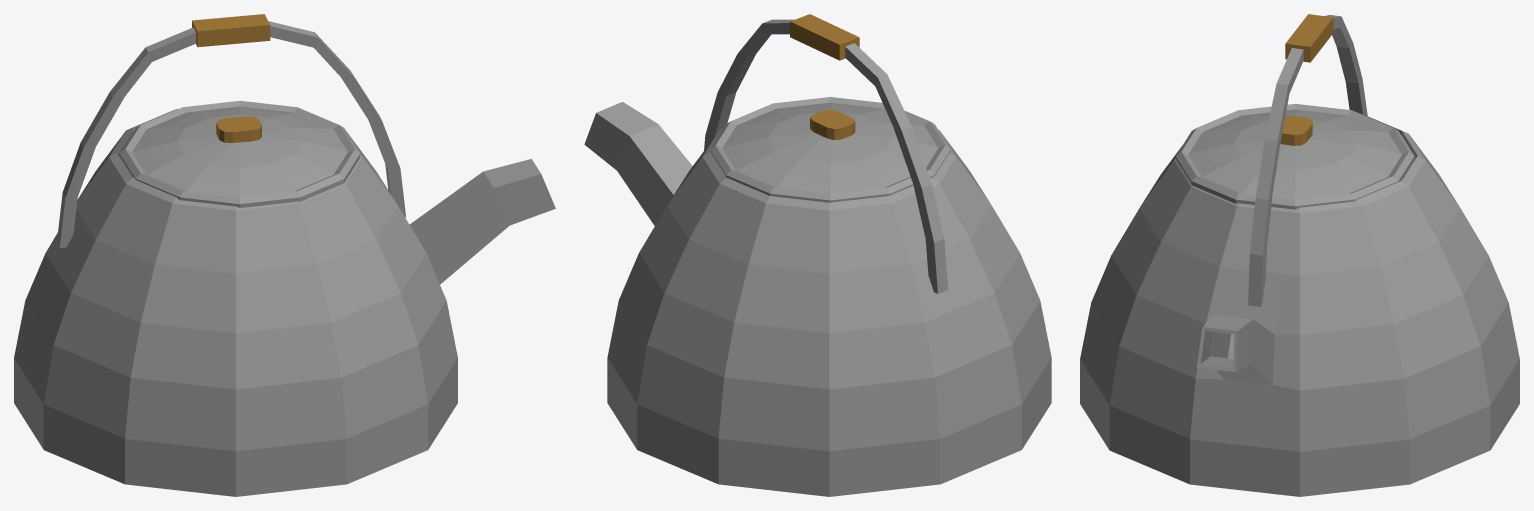
Rendered from Kettle.fbx.
3 views of the same model, side by side, from view 1: azimuth 30°, elevation 25°; view 2: azimuth 150°, elevation 25°; view 3: azimuth 270°, elevation 25° (orthographic).
Visible parts, largest first — view 1: kattle, krichka, ruchka ot chainika, ruchka, ruchka ot krichki; view 2: kattle, krichka, ruchka ot chainika, ruchka, ruchka ot krichki; view 3: kattle, krichka, ruchka ot chainika, ruchka, ruchka ot krichki.
Part boxes in pixels (x1,y1,x2,y2): kattle: (14,109,555,496); krichka: (119,100,360,207); ruchka ot chainika: (57,21,405,247); ruchka: (192,14,270,47); ruchka ot krichki: (216,116,261,142); kattle: (584,102,1051,496); krichka: (710,97,950,202); ruchka ot chainika: (704,19,948,293); ruchka: (790,14,859,60); ruchka ot krichki: (810,109,855,140); kattle: (1080,112,1519,496); krichka: (1176,104,1414,209); ruchka ot chainika: (1248,15,1367,306); ruchka: (1285,14,1333,62); ruchka ot krichki: (1280,115,1312,145).
Bounding box in the file's own units: 244 × 187 × 200.
